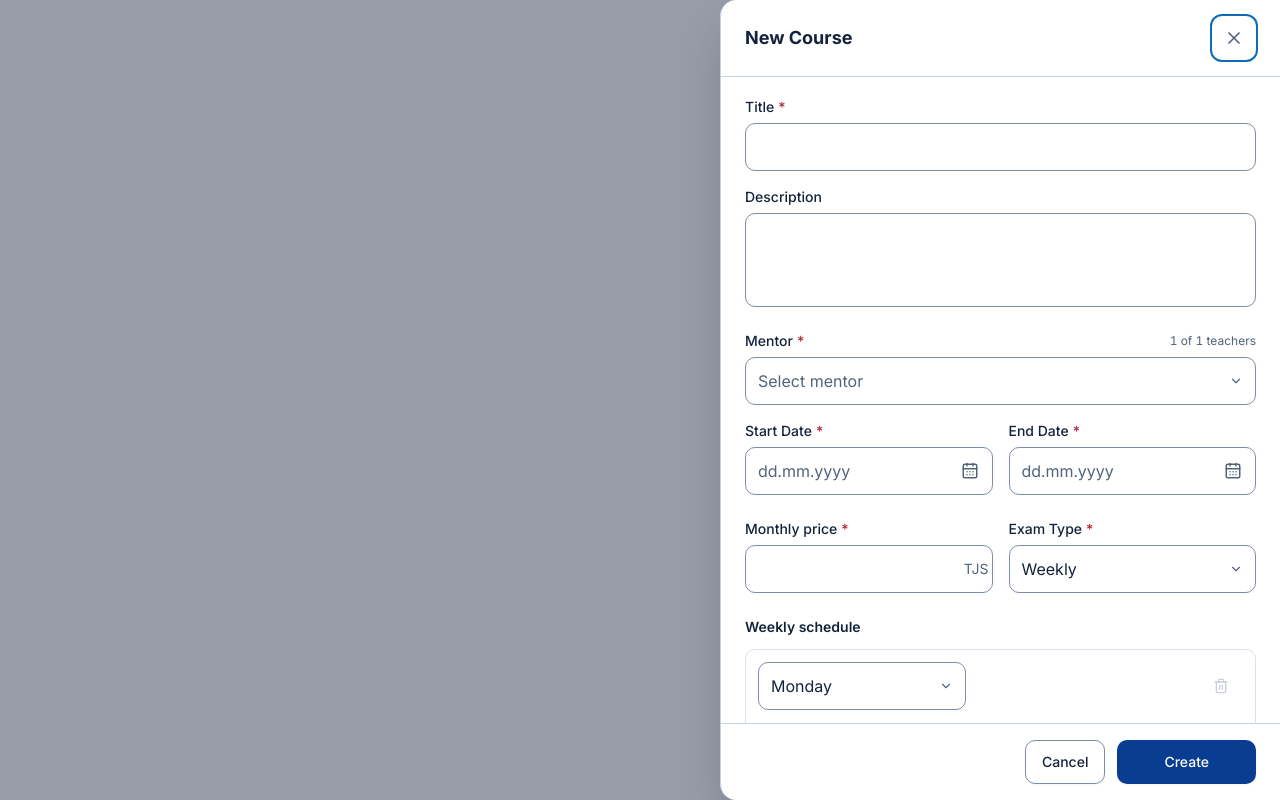
Test: discards draft and closes panel when discard is confirmed
The width and height of the screenshot is (1280, 800).
Type "Draft to discard" into the field labelled "Title*" at (1000, 147), box left=745, top=123, right=1256, bottom=171
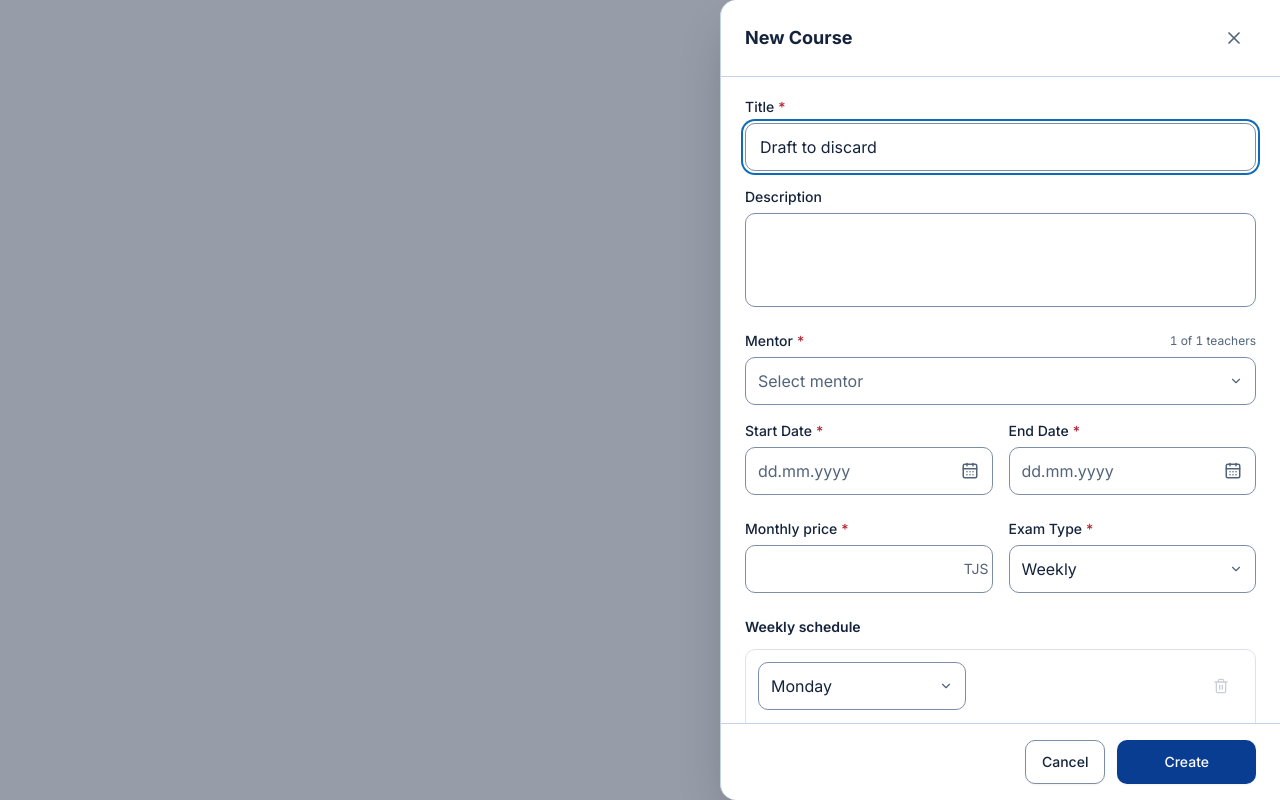
Click the button named "Close" at (1234, 38), box left=1212, top=16, right=1256, bottom=60
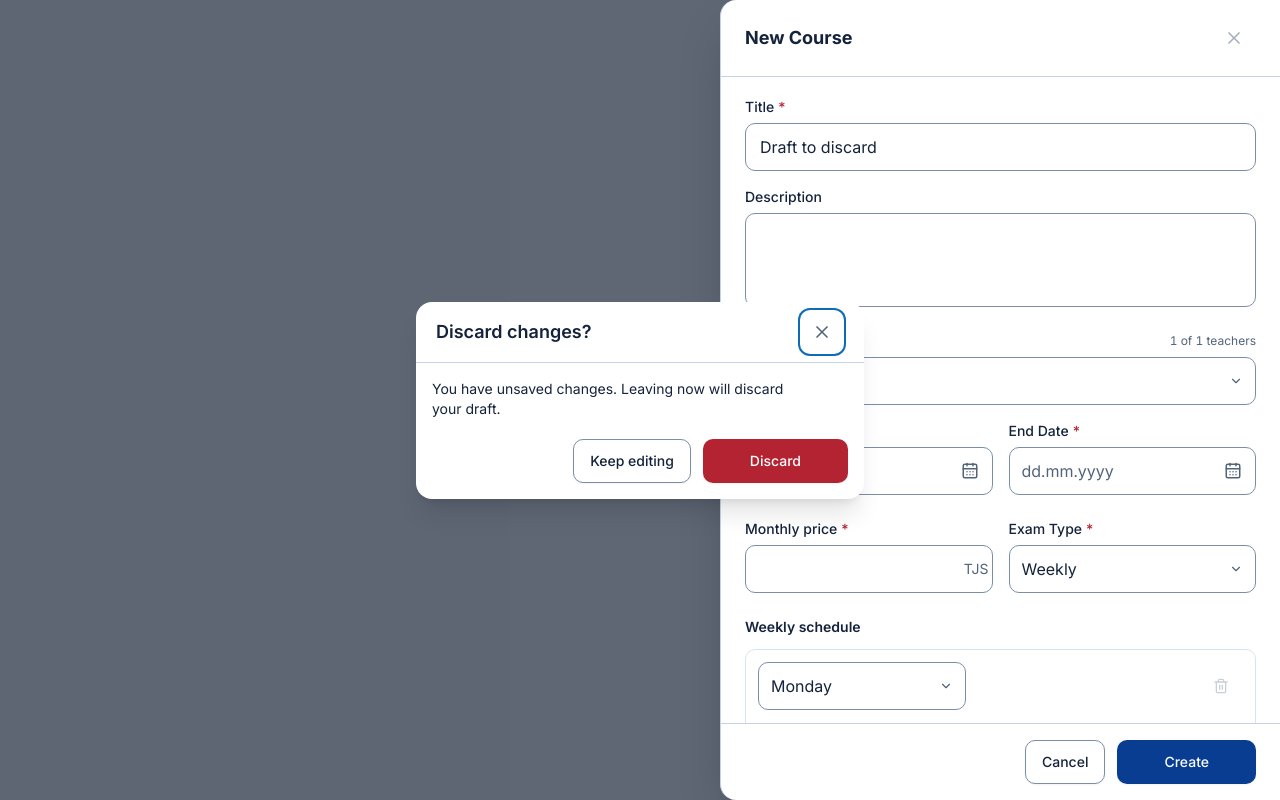
Click the button "Discard" at (775, 460), box left=703, top=438, right=848, bottom=482
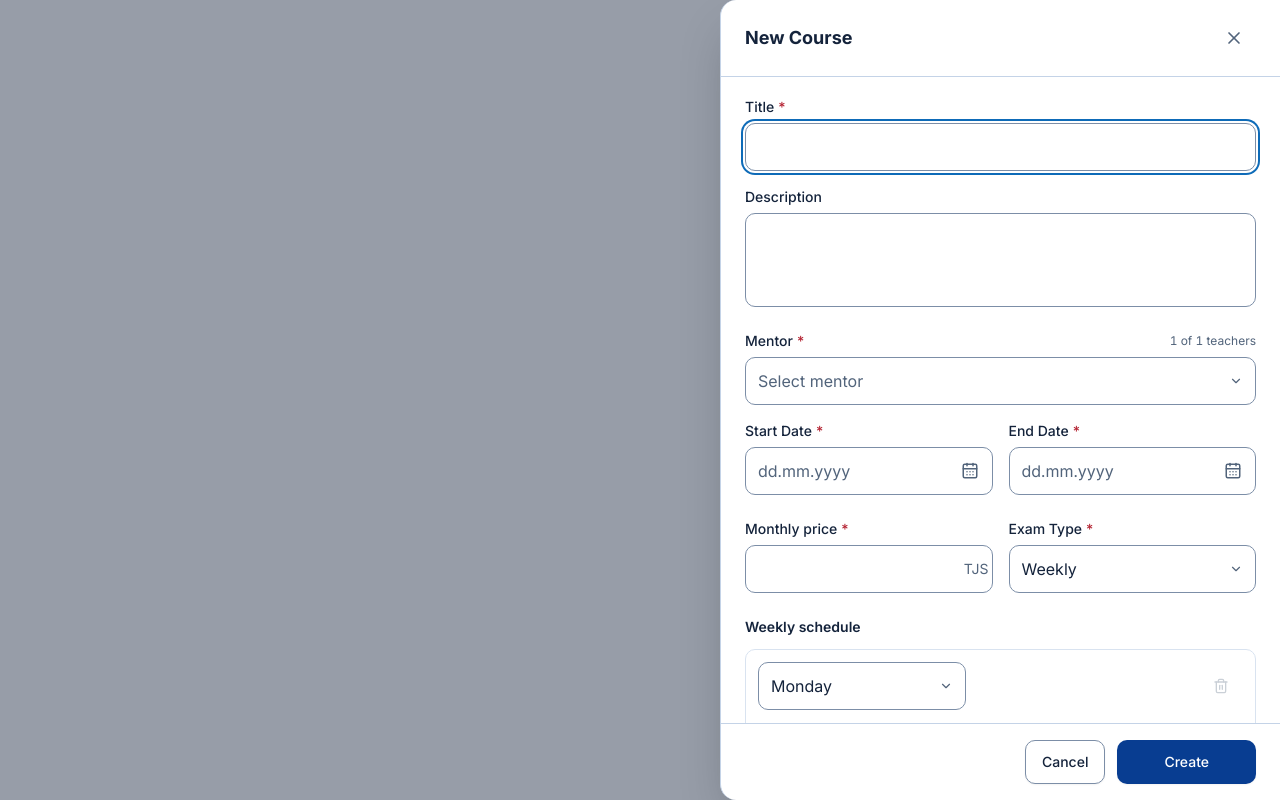
Result: the heading "Discard changes?" is gone
